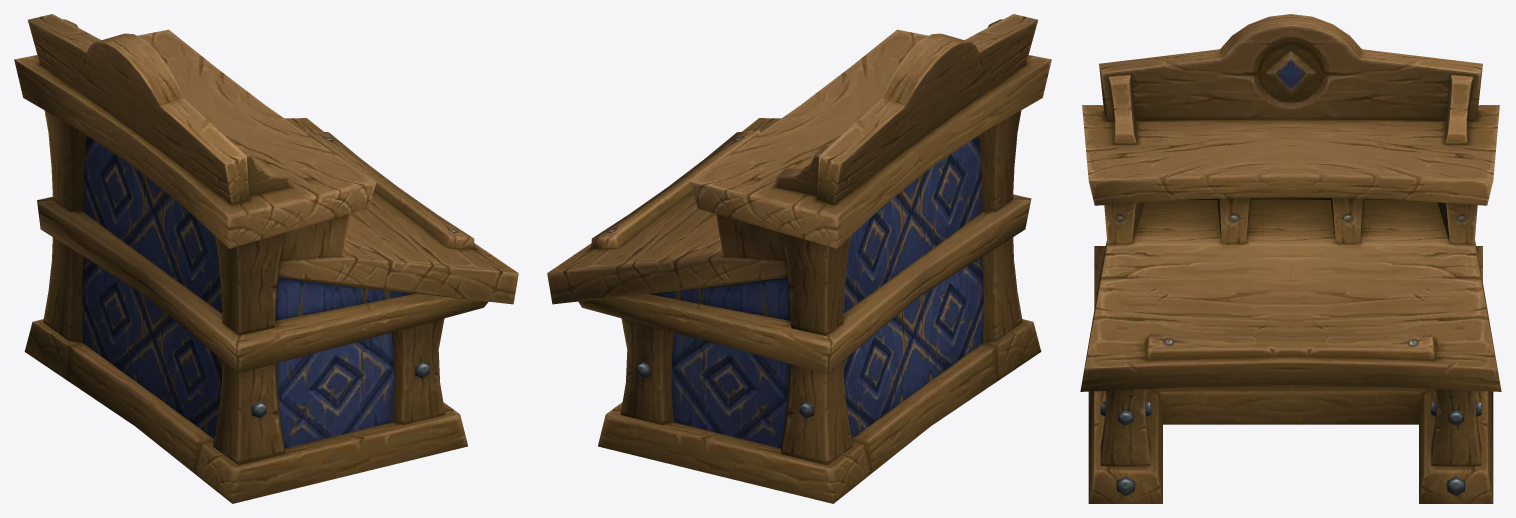
3 views of the same model, side by side, from view 1: azimuth 30°, elevation 25°; view 2: azimuth 150°, elevation 25°; view 3: azimuth 270°, elevation 25° (orthographic). The views are drawn at different scales.
Size of the model in its own units: 2.22 by 2.74 by 2.8.
1 material, 1 textured.
